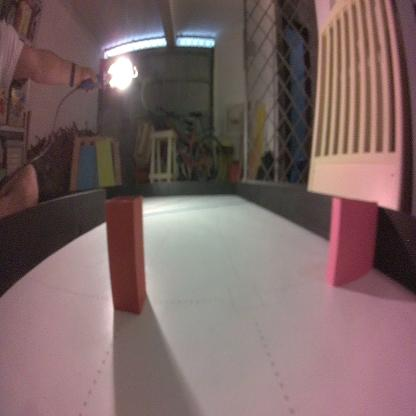magenta: (325, 193, 377, 294)
red: (104, 192, 145, 313)
